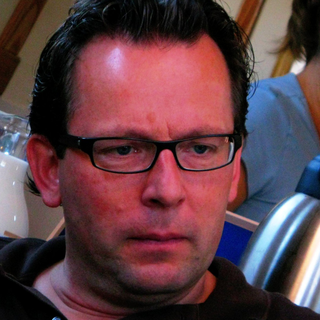eye: (185, 139, 223, 164), (100, 141, 145, 162)
